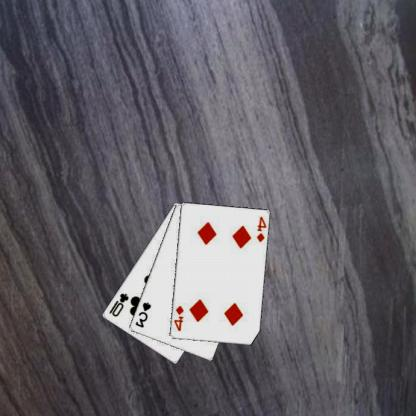10C: (108, 291, 131, 318)
3S: (134, 300, 154, 328)
4D: (173, 303, 186, 332), (256, 214, 268, 244)
